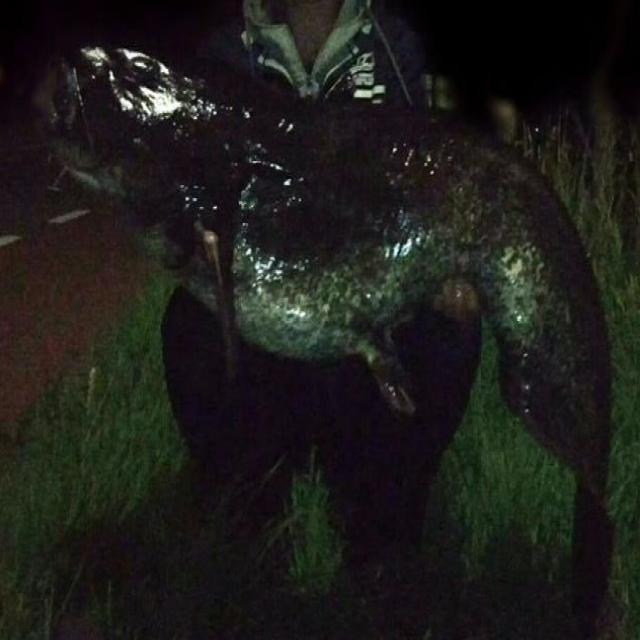Catfish: (17, 19, 631, 633)
